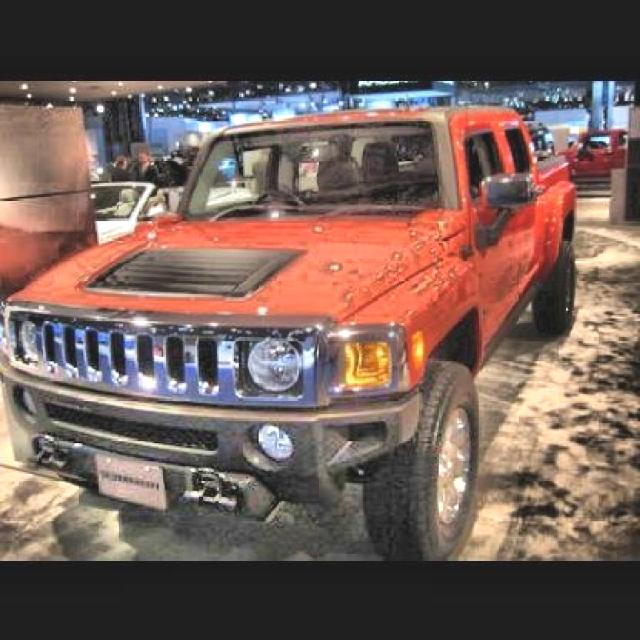red: (30, 95, 586, 500)
